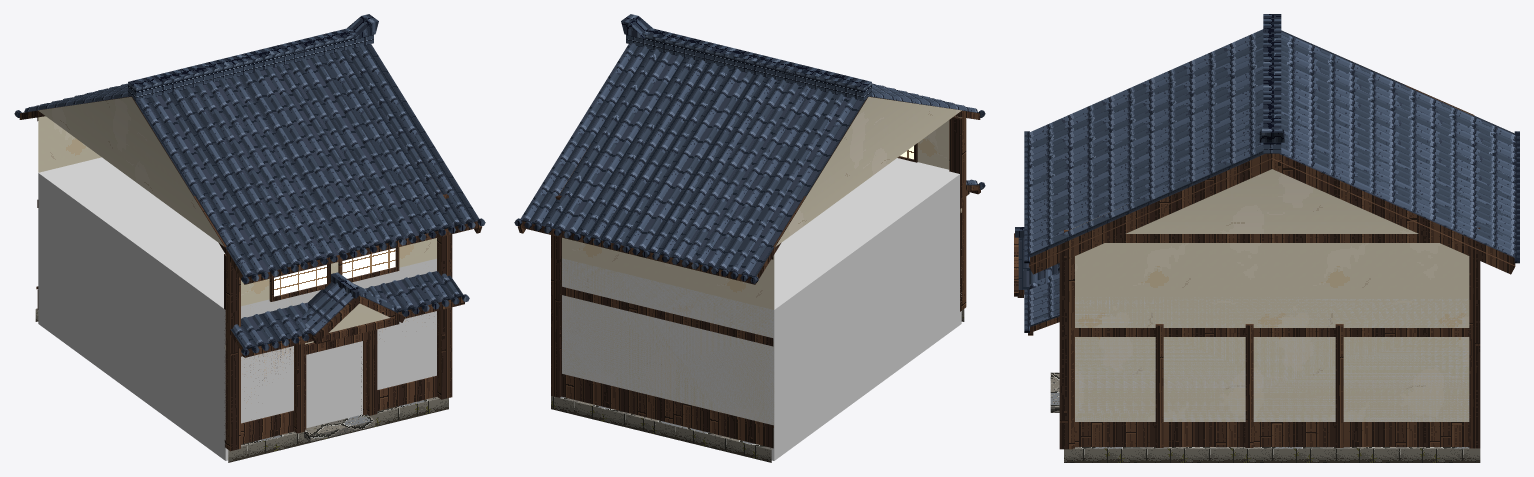
Rendered from JP_Row_House_A_R.glb.
The picture shows the model from 3 angles, left to right: view 1: azimuth 30°, elevation 25°; view 2: azimuth 150°, elevation 25°; view 3: azimuth 270°, elevation 25°; orthographic projection. The views are drawn at different scales.
Visible parts, largest first — view 1: JP_Row_House_A_R, COL_JP_Row_House_A_R; view 2: JP_Row_House_A_R, COL_JP_Row_House_A_R; view 3: JP_Row_House_A_R, COL_JP_Row_House_A_R.
Part boxes in pixels (x1=…): JP_Row_House_A_R: x1=14, y1=14, x2=485, y2=462; COL_JP_Row_House_A_R: x1=38, y1=157, x2=436, y2=460; JP_Row_House_A_R: x1=514, y1=14, x2=985, y2=462; COL_JP_Row_House_A_R: x1=562, y1=158, x2=961, y2=460; JP_Row_House_A_R: x1=1014, y1=14, x2=1519, y2=462; COL_JP_Row_House_A_R: x1=1075, y1=297, x2=1469, y2=421.
Size of the model in its own units: 6.8 by 8.36 by 11.23.
Materials: 12 (12 with a texture image).
